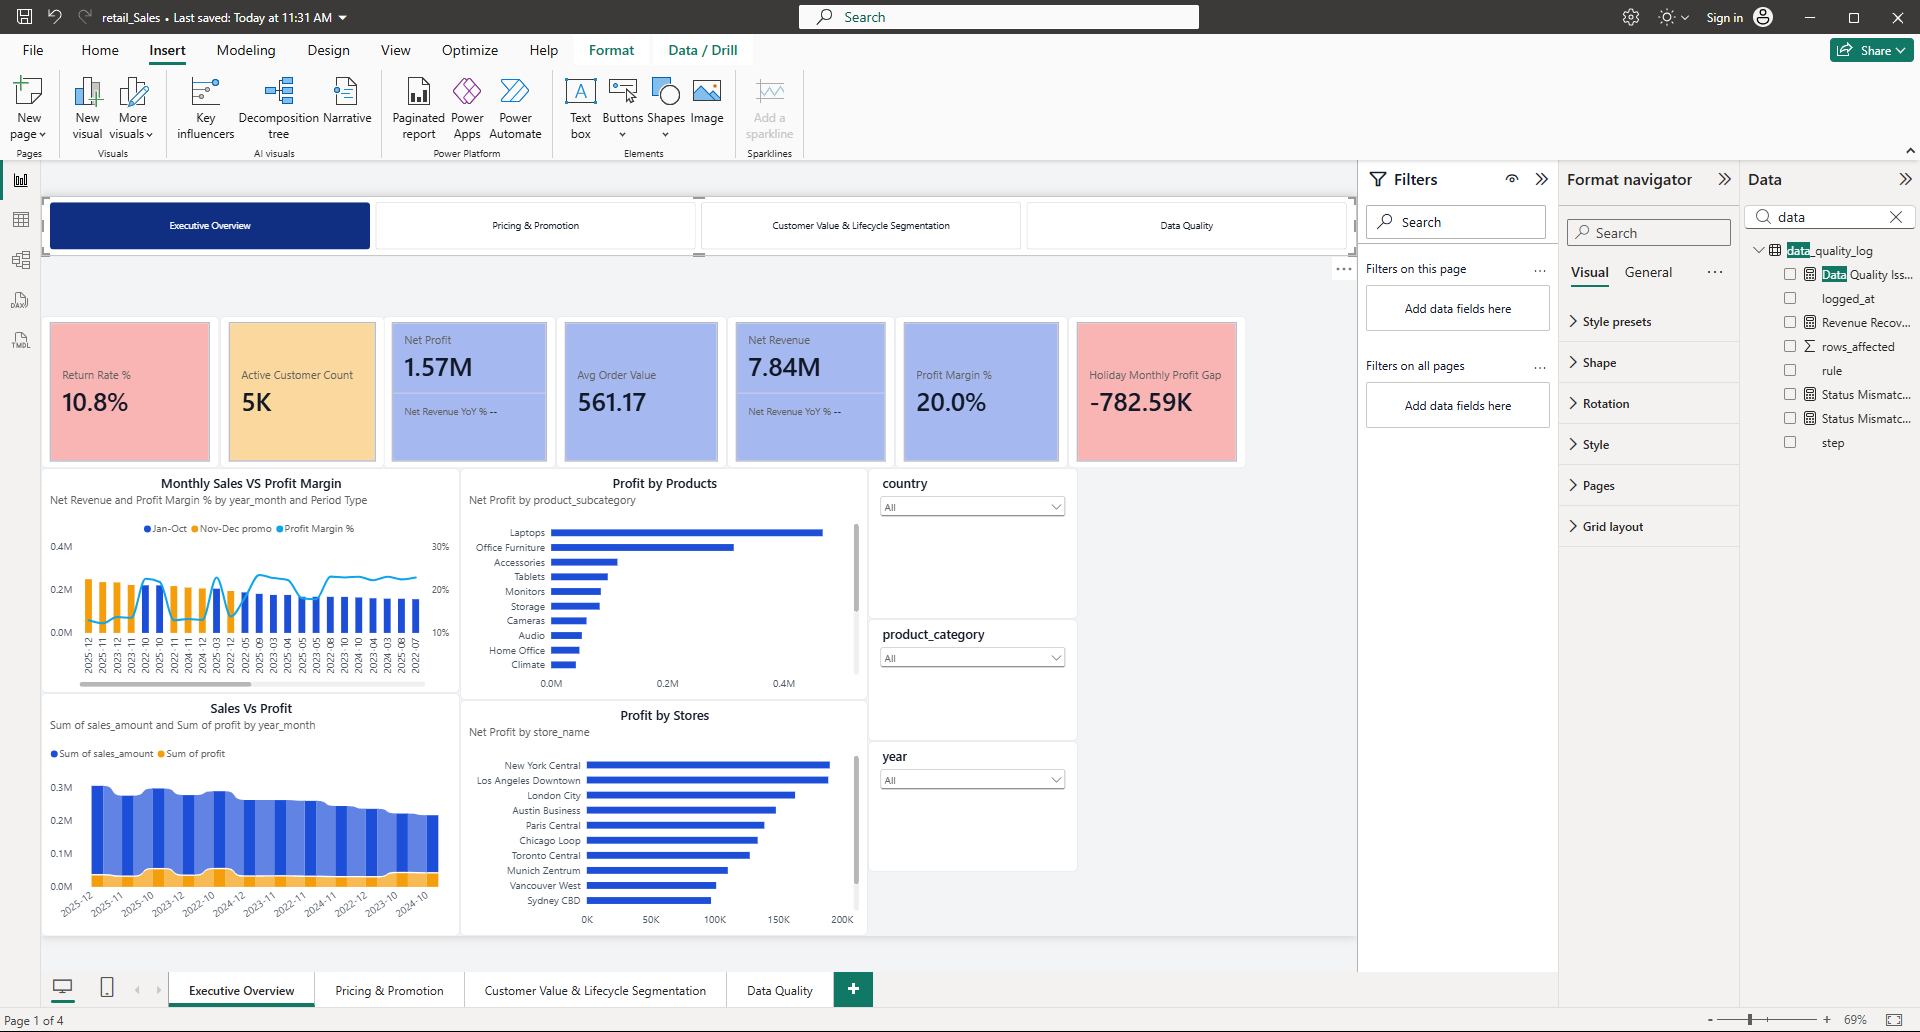

Layout of this report page (visuals, bound fields, positions):
{"tool":"powerbi","page":{"name":"Executive Overview","canvas":[1920,1080],"ordinal":0},"visuals":[{"type":"lineStackedColumnComboChart","title":"Monthly Sales VS Profit Margin","fields":{"Category":["retail dim_date.year_month"],"Series":["dim_date.Period Type"],"Y":["fact_sales.Net Revenue"],"Y2":["fact_sales.Profit Margin %"]},"box":[0,396.8,611.3,328.3],"z":0},{"type":"ribbonChart","title":"Sales Vs Profit","fields":{"Category":["retail dim_date.year_month"],"Y":["Sum(retail fact_sales.sales_amount)","Sum(retail fact_sales.profit)"]},"box":[0,725.1,611.3,354.5],"z":1000},{"type":"cardVisual","fields":{"Data":["retail data_quality_log._Holiday Monthly Profit Gap"]},"box":[1498.4,175.1,259.6,221.9],"z":2000},{"type":"pageNavigator","box":[0,0,1920,87.5],"z":3000},{"type":"slicer","fields":{"Values":["dim_date.year"]},"box":[1206.6,795.1,306.4,191.1],"z":4000},{"type":"slicer","fields":{"Values":["dim_product.product_category"]},"box":[1206.6,617.1,306.4,178],"z":5000},{"type":"slicer","fields":{"Values":["dim_store.country"]},"box":[1206.6,396.8,306.4,220.3],"z":6000},{"type":"cardVisual","fields":{"Data":["fact_sales.Net Revenue"]},"box":[1000.9,175.1,244.5,221.9],"z":7000},{"type":"cardVisual","fields":{"Data":["fact_sales.Net Profit"]},"box":[499,175.1,252.1,221.9],"z":8000},{"type":"cardVisual","fields":{"Data":["fact_sales.Profit Margin %"]},"box":[1246,175.1,252.1,221.9],"z":9000},{"type":"cardVisual","fields":{"Data":["fact_sales.Avg Order Value"]},"box":[751.4,175.1,249.1,221.9],"z":10000},{"type":"cardVisual","fields":{"Data":["fact_sales.Return Rate %"]},"box":[0,175.1,259.6,221.9],"z":11000},{"type":"cardVisual","fields":{"Data":["fact_sales.Active Customer Count"]},"box":[261.2,175.1,240,221.9],"z":12000},{"type":"barChart","title":"Profit by Products","fields":{"Category":["dim_product.product_subcategory"],"Y":["fact_sales.Net Profit"]},"box":[611.3,396.8,595.3,338.5],"z":13000},{"type":"barChart","title":"Profit by Stores","fields":{"Category":["dim_store.store_name"],"Y":["fact_sales.Net Profit"]},"box":[611.3,735.3,595.3,344.3],"z":14000}]}

Visuals, with their boxes on the page's 1920x1080 design canvas (x1, y1, x2, y2). These are canvas units, not pixel positions in the 1920x1032 screenshot, which may show the page scaled, cropped or inside an application window:
"Monthly Sales VS Profit Margin" lineStackedColumnComboChart: x1=0 y1=397 x2=611 y2=725
"Sales Vs Profit" ribbonChart: x1=0 y1=725 x2=611 y2=1080
cardVisual - retail data_quality_log._Holiday Monthly Profit Gap: x1=1498 y1=175 x2=1758 y2=397
pageNavigator: x1=0 y1=0 x2=1920 y2=88
slicer - dim_date.year: x1=1207 y1=795 x2=1513 y2=986
slicer - dim_product.product_category: x1=1207 y1=617 x2=1513 y2=795
slicer - dim_store.country: x1=1207 y1=397 x2=1513 y2=617
cardVisual - fact_sales.Net Revenue: x1=1001 y1=175 x2=1245 y2=397
cardVisual - fact_sales.Net Profit: x1=499 y1=175 x2=751 y2=397
cardVisual - fact_sales.Profit Margin %: x1=1246 y1=175 x2=1498 y2=397
cardVisual - fact_sales.Avg Order Value: x1=751 y1=175 x2=1000 y2=397
cardVisual - fact_sales.Return Rate %: x1=0 y1=175 x2=260 y2=397
cardVisual - fact_sales.Active Customer Count: x1=261 y1=175 x2=501 y2=397
"Profit by Products" barChart: x1=611 y1=397 x2=1207 y2=735
"Profit by Stores" barChart: x1=611 y1=735 x2=1207 y2=1080
